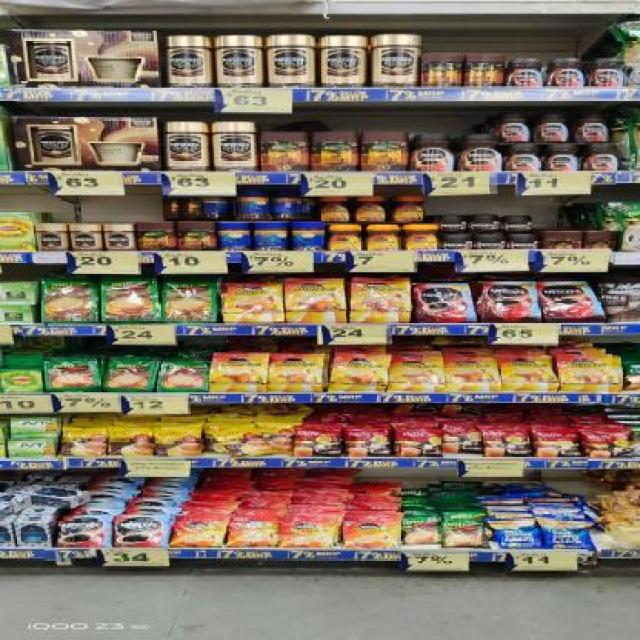Coffee: (537, 282, 600, 323), (351, 280, 409, 323), (287, 281, 345, 324), (215, 36, 262, 89), (373, 35, 419, 88), (412, 284, 473, 322), (481, 282, 537, 323), (224, 284, 281, 324), (270, 35, 313, 88), (168, 37, 212, 88), (320, 37, 364, 88), (165, 121, 208, 171), (561, 356, 619, 393), (209, 354, 265, 392), (213, 122, 255, 172), (268, 355, 322, 393), (332, 354, 386, 392), (499, 357, 555, 392), (445, 358, 500, 392), (389, 359, 443, 392), (114, 516, 168, 546), (59, 516, 110, 547), (344, 519, 398, 547), (412, 135, 454, 170), (280, 518, 330, 547), (229, 518, 277, 547), (174, 518, 221, 547), (462, 136, 502, 170), (572, 114, 608, 143), (509, 59, 543, 87), (534, 114, 569, 141), (588, 59, 622, 86), (546, 145, 580, 172), (583, 145, 617, 172), (69, 224, 102, 251), (35, 224, 68, 251), (506, 144, 540, 170), (550, 59, 582, 86), (103, 224, 135, 251), (500, 115, 531, 142), (404, 225, 438, 249), (329, 225, 360, 250), (366, 227, 399, 250), (394, 196, 423, 222), (319, 197, 349, 221), (357, 197, 385, 221), (441, 235, 471, 250), (471, 217, 500, 231), (440, 217, 466, 231), (476, 236, 504, 249), (502, 218, 532, 230), (510, 236, 536, 249)
